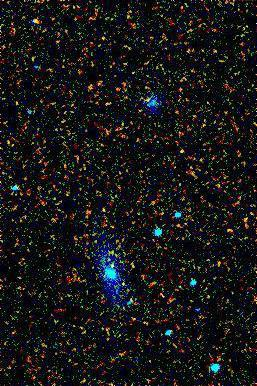star: (99, 247, 129, 277)
